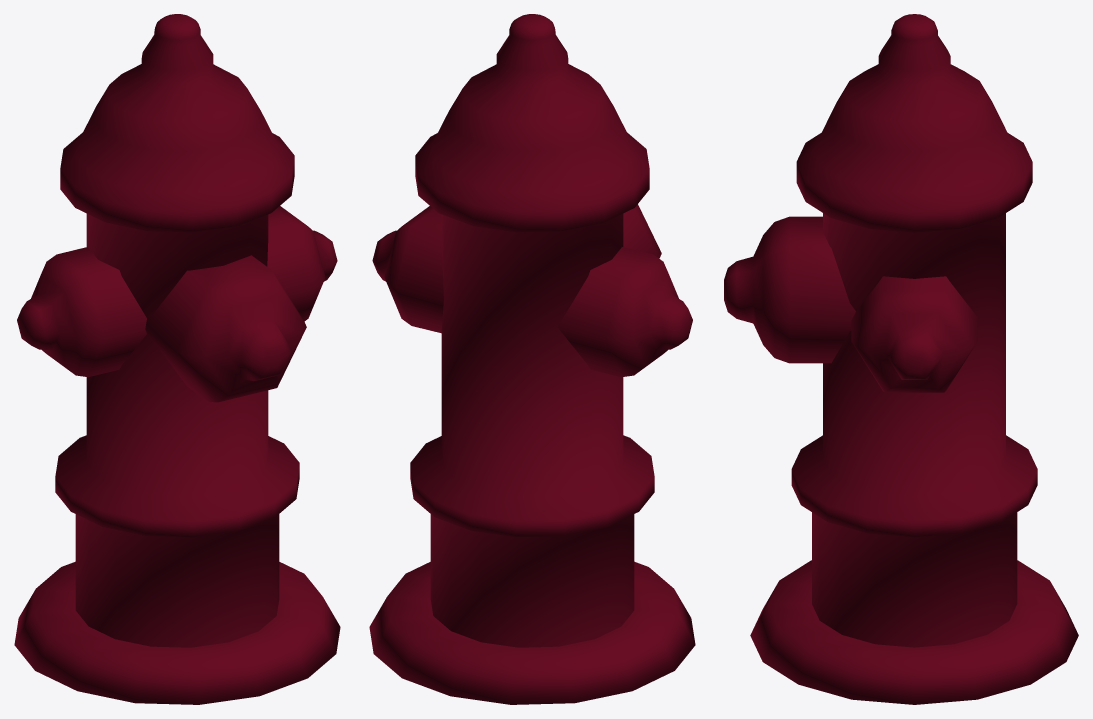
Rendered from Hydro.fbx.
The picture shows the model from 3 angles, left to right: view 1: azimuth 30°, elevation 25°; view 2: azimuth 150°, elevation 25°; view 3: azimuth 270°, elevation 25°; orthographic projection.
Parts seen in each view (by area): view 1: Hydro; view 2: Hydro; view 3: Hydro.
Boxes of the visible parts, x1=… form: Hydro: x1=14, y1=14, x2=340, y2=704; Hydro: x1=369, y1=14, x2=695, y2=704; Hydro: x1=724, y1=14, x2=1078, y2=704.
Bounding box in the file's own units: 1.05 × 1.05 × 2.01.
